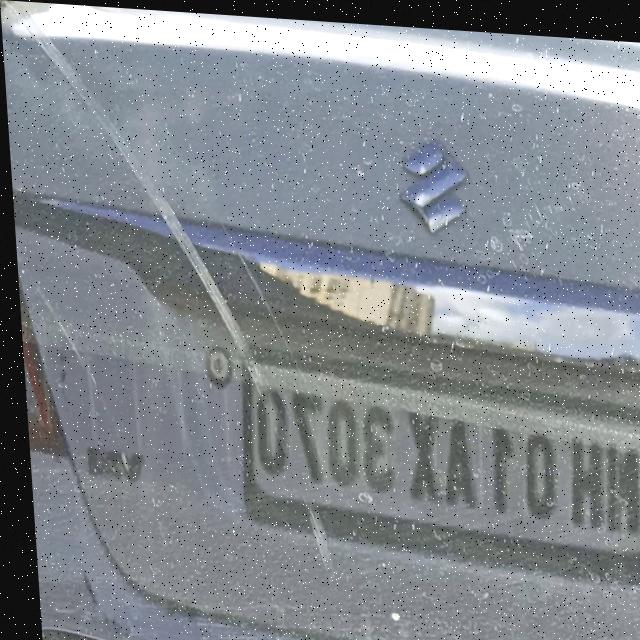plate: (234, 341, 640, 572)
